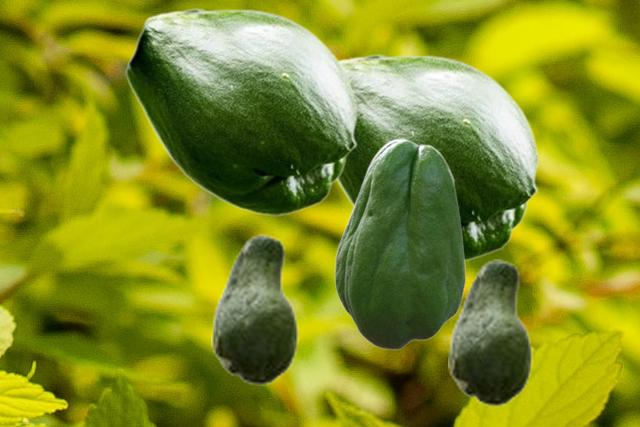sayote: (125, 8, 357, 215), (335, 54, 538, 261), (334, 138, 465, 349), (211, 234, 297, 385), (448, 259, 531, 406)
